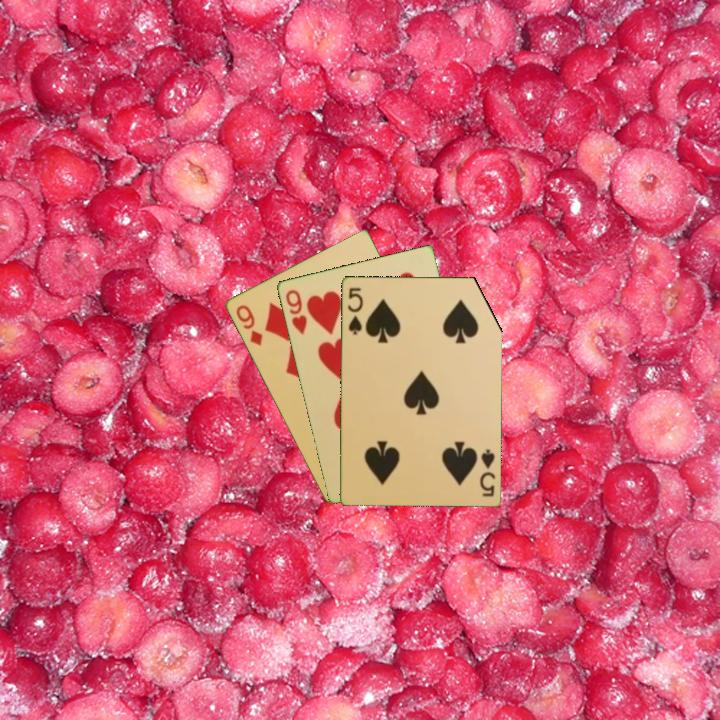5s: (476, 445, 497, 499), (344, 284, 365, 337)
9d: (232, 301, 265, 349)
9h: (282, 286, 310, 337)
